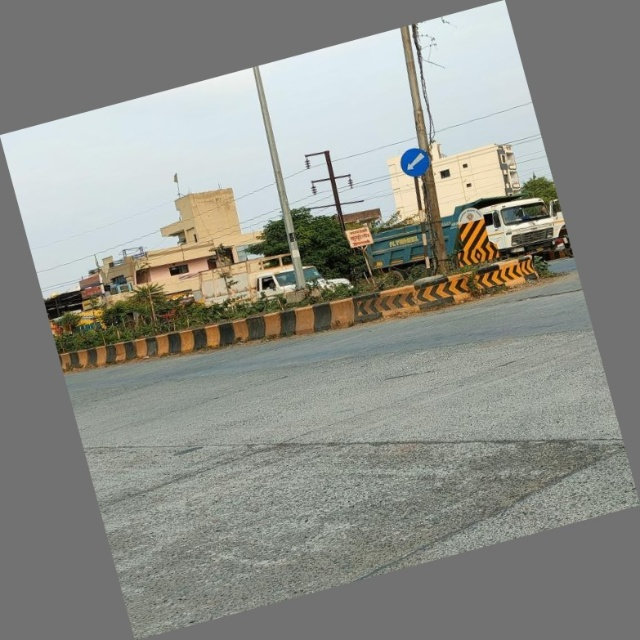R.301e: (396, 144, 436, 184)
